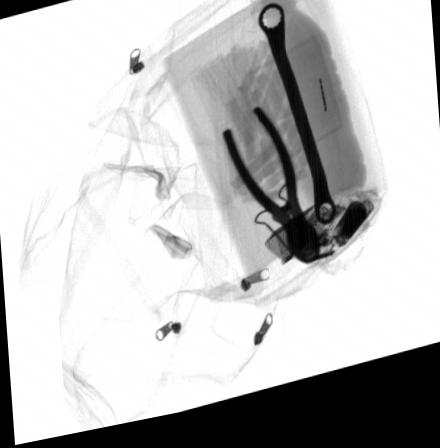Pliers: (220, 116, 318, 278)
Wrench: (257, 13, 336, 238)
